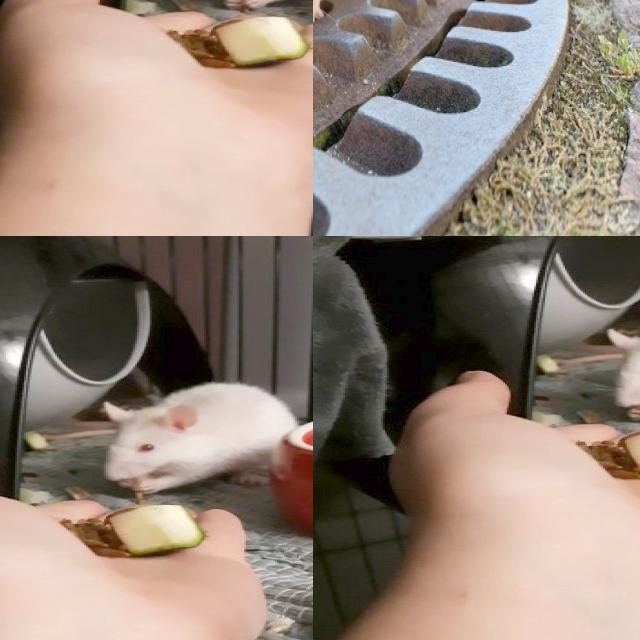rat: (98, 383, 299, 495)
